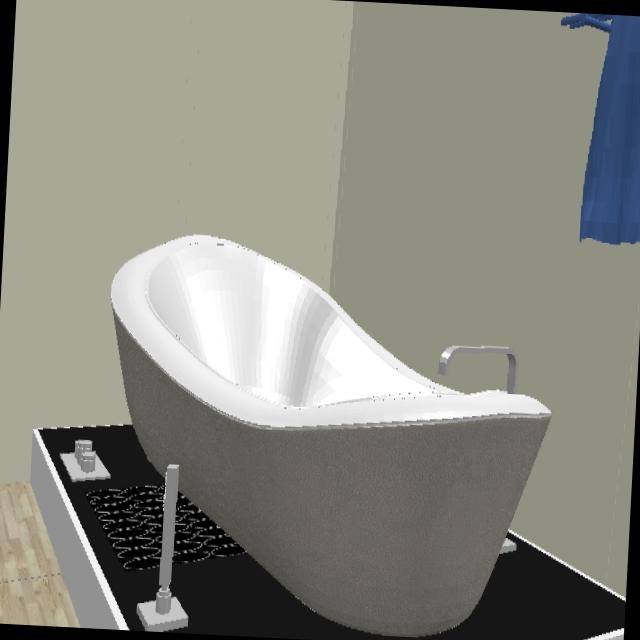bathtube: (110, 235, 552, 639)
